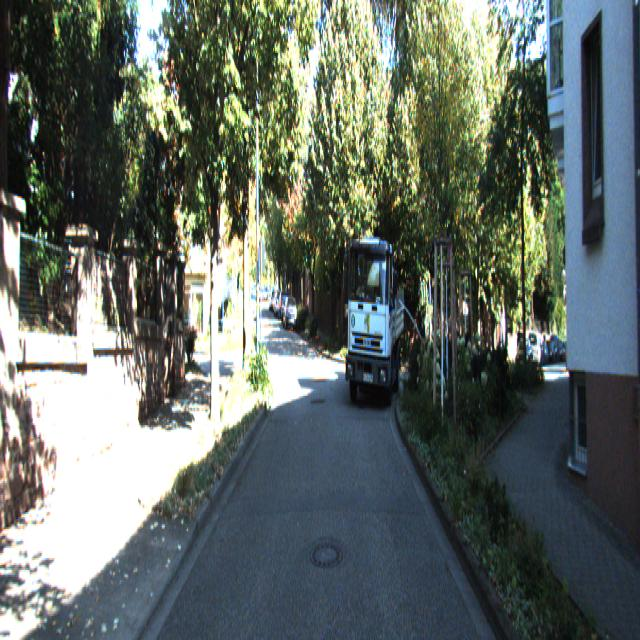Car: (284, 294, 297, 332)
DontCare: (510, 316, 566, 372), (264, 281, 285, 318)
Truck: (345, 227, 407, 413)
